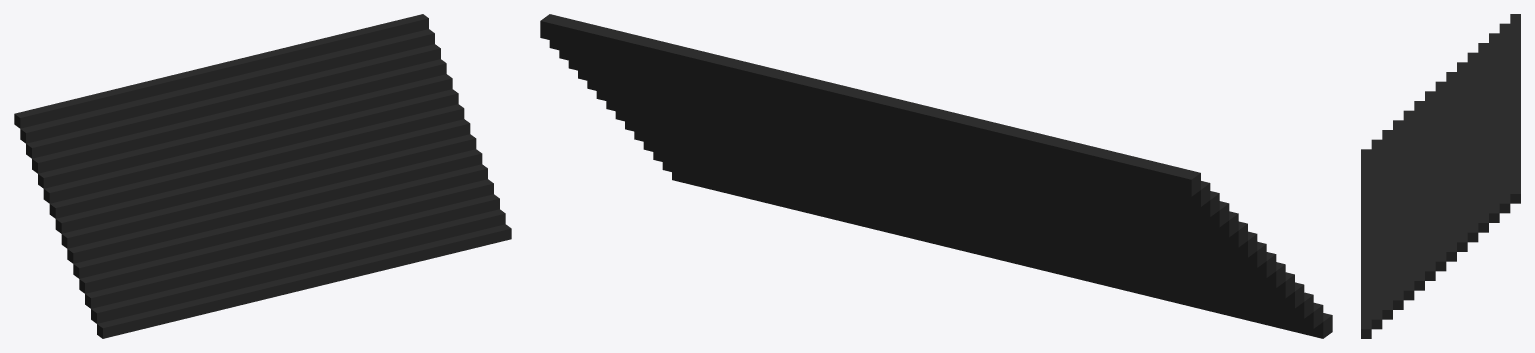
File: ConstructionMaterials-30.obj
3 views of the same model, side by side, from view 1: azimuth 30°, elevation 25°; view 2: azimuth 150°, elevation 25°; view 3: azimuth 270°, elevation 25° (orthographic). The views are drawn at different scales.
Size of the model in its own units: 4 by 1.5 by 1.5.
Materials: 1 (1 with a texture image).
